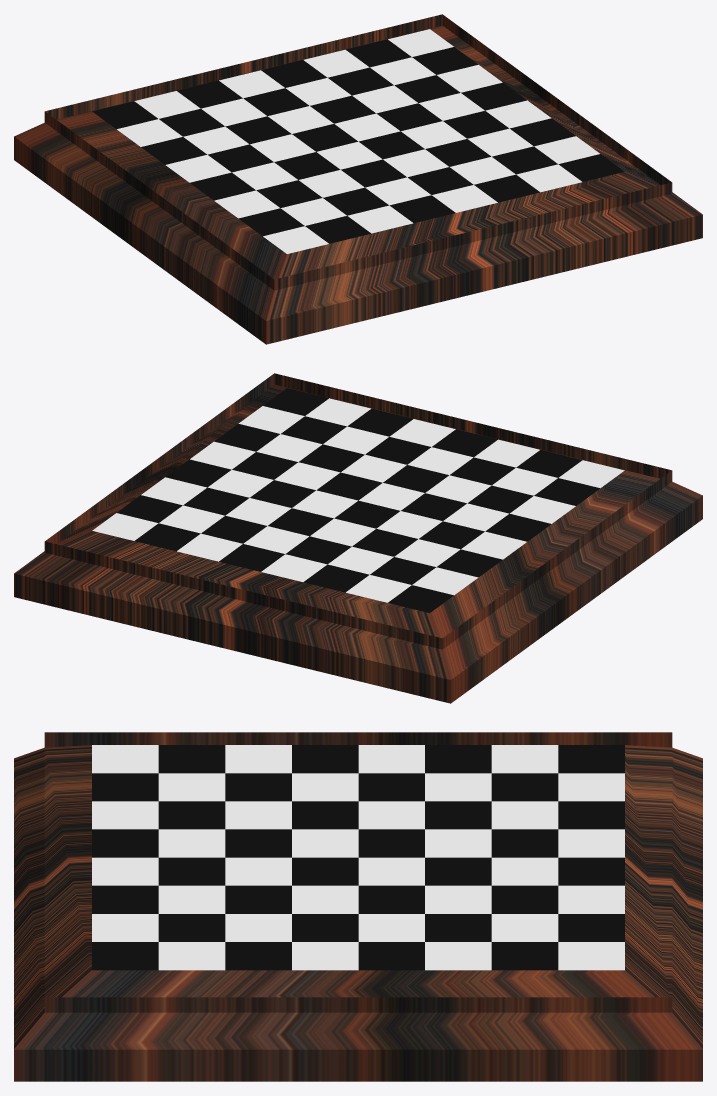
File: board.gltf
3 renders of one model, top to bottom at view 1: azimuth 30°, elevation 25°; view 2: azimuth 150°, elevation 25°; view 3: azimuth 270°, elevation 25°, orthographic. The views are drawn at different scales.
Visible parts, largest first — view 1: Plane, White Squares; view 2: Plane, White Squares; view 3: White Squares, Plane.
Boxes of the visible parts, x1,y1,x2,y2 form: Plane: [14, 14, 702, 344]; White Squares: [92, 29, 624, 253]; Plane: [14, 373, 702, 703]; White Squares: [92, 388, 624, 612]; White Squares: [92, 745, 624, 970]; Plane: [14, 732, 702, 1081].
Bounding box in the file's own units: 0.6207 × 0.0781 × 0.6207.
Materials: 3 (1 with a texture image).
